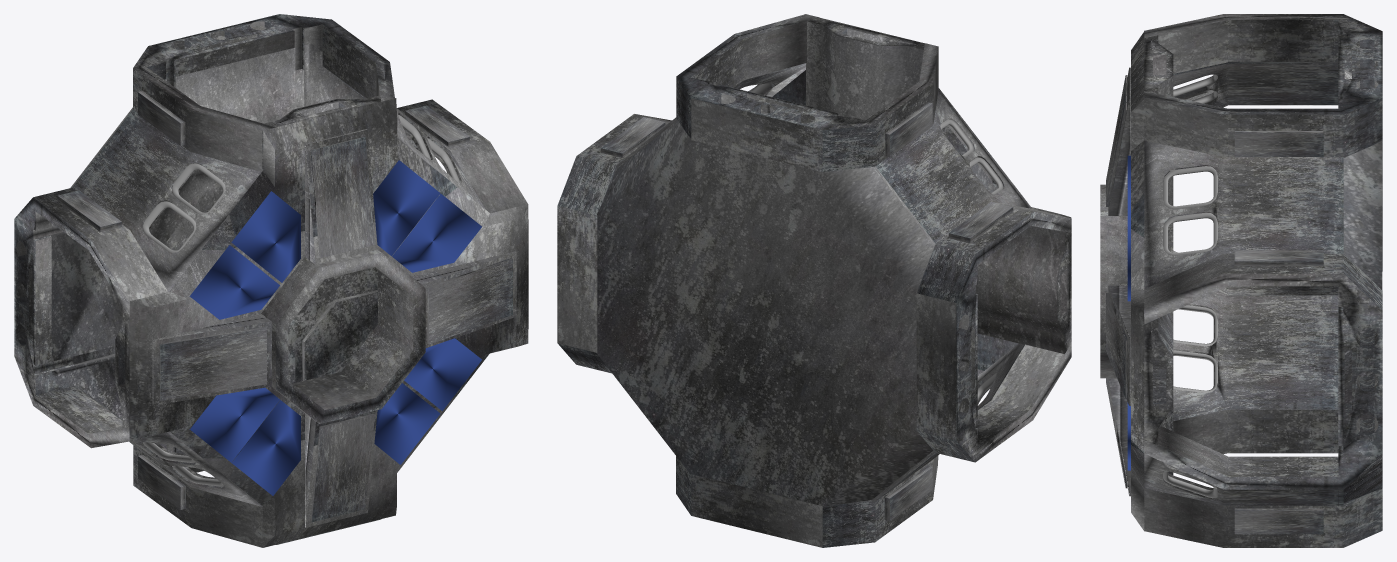
Rendered from Mini Room_LOD0.obj.
The picture shows the model from 3 angles, left to right: view 1: azimuth 30°, elevation 25°; view 2: azimuth 150°, elevation 25°; view 3: azimuth 270°, elevation 25°; orthographic projection. The views are drawn at different scales.
Parts seen in each view (by area): view 1: Cylinder1008, Cylinder1007, Line763, Line772, Cylinder1006, Box1481, Mesh97, Mesh92, Mesh96, Mesh95, Line762, Line759 (+18 smaller); view 2: Cylinder1007, Line772, Line763, Line765, Line762, Line759, Box1481, Mesh93, Cylinder1008, Box1482, Box1485, Box1486 (+3 smaller); view 3: Line763, Line759, Box1474, Box1482, Line762, Cylinder1008, Cylinder1007, Box1481, Box1473, Mesh94, Cylinder1006, Box1397 (+13 smaller).
Part boxes in pixels (box(x1,y1,x2,y2)): Cylinder1008: box(129, 98, 528, 547); Cylinder1007: box(50, 43, 417, 453); Line763: box(133, 14, 394, 171); Line772: box(14, 188, 168, 448); Cylinder1006: box(261, 250, 425, 423); Box1481: box(72, 109, 261, 291); Mesh97: box(159, 326, 266, 400); Mesh92: box(311, 136, 374, 257); Mesh96: box(311, 413, 374, 522); Mesh95: box(427, 258, 512, 344); Line762: box(133, 445, 262, 547); Line759: box(397, 99, 527, 213); Cylinder1007: box(597, 120, 933, 506); Line772: box(916, 202, 1071, 462); Line763: box(676, 14, 938, 171); Line765: box(975, 226, 1071, 354); Line762: box(676, 456, 937, 547); Line759: box(557, 114, 671, 373); Box1481: box(873, 89, 1031, 246); Mesh93: box(806, 17, 924, 119); Cylinder1008: box(772, 19, 1071, 459); Box1482: box(872, 343, 1024, 501); Box1485: box(884, 466, 932, 521); Box1486: box(885, 102, 932, 157); Line763: box(1144, 14, 1382, 157); Line759: box(1144, 253, 1382, 489); Box1474: box(1144, 140, 1343, 289); Box1482: box(1173, 291, 1338, 420); Line762: box(1144, 409, 1382, 547); Cylinder1008: box(1108, 32, 1144, 530); Cylinder1007: box(1338, 69, 1382, 505); Box1481: box(1173, 61, 1338, 107); Box1473: box(1144, 454, 1343, 505); Mesh94: box(1144, 311, 1173, 445); Cylinder1006: box(1100, 184, 1173, 378); Box1397: box(1234, 508, 1323, 534).
Bounding box in the file's own units: 78.74 × 78.79 × 46.52.
3 materials, 1 textured.
